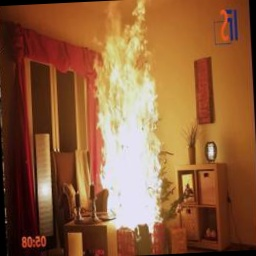fire: (82, 0, 181, 238)
